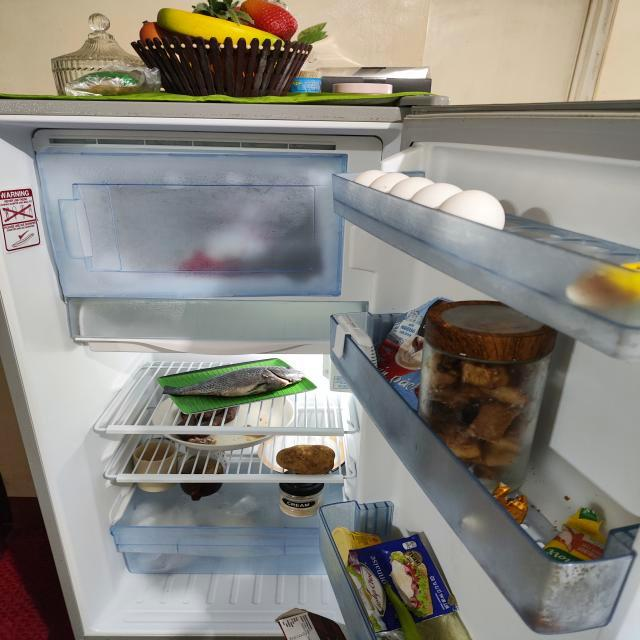egg: (345, 163, 505, 245)
fish: (160, 360, 306, 403)
potato: (275, 440, 337, 480)
